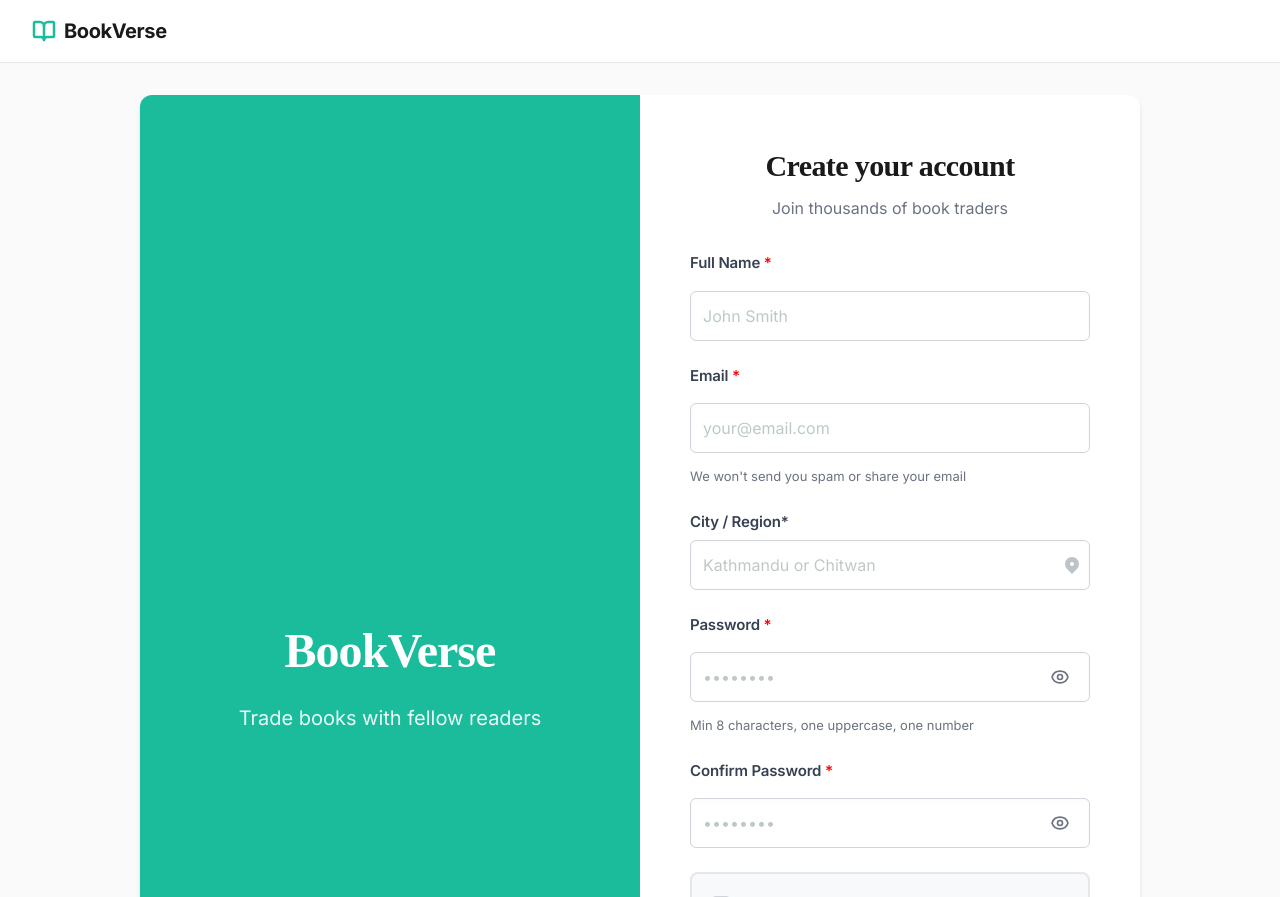
Scenario: SignUp Component › Validation › displays validation error for invalid email format
The image size is (1280, 897).
Type "invalid-email" into the field labelled "Email *" at (890, 428), box [690,403,1090,453]
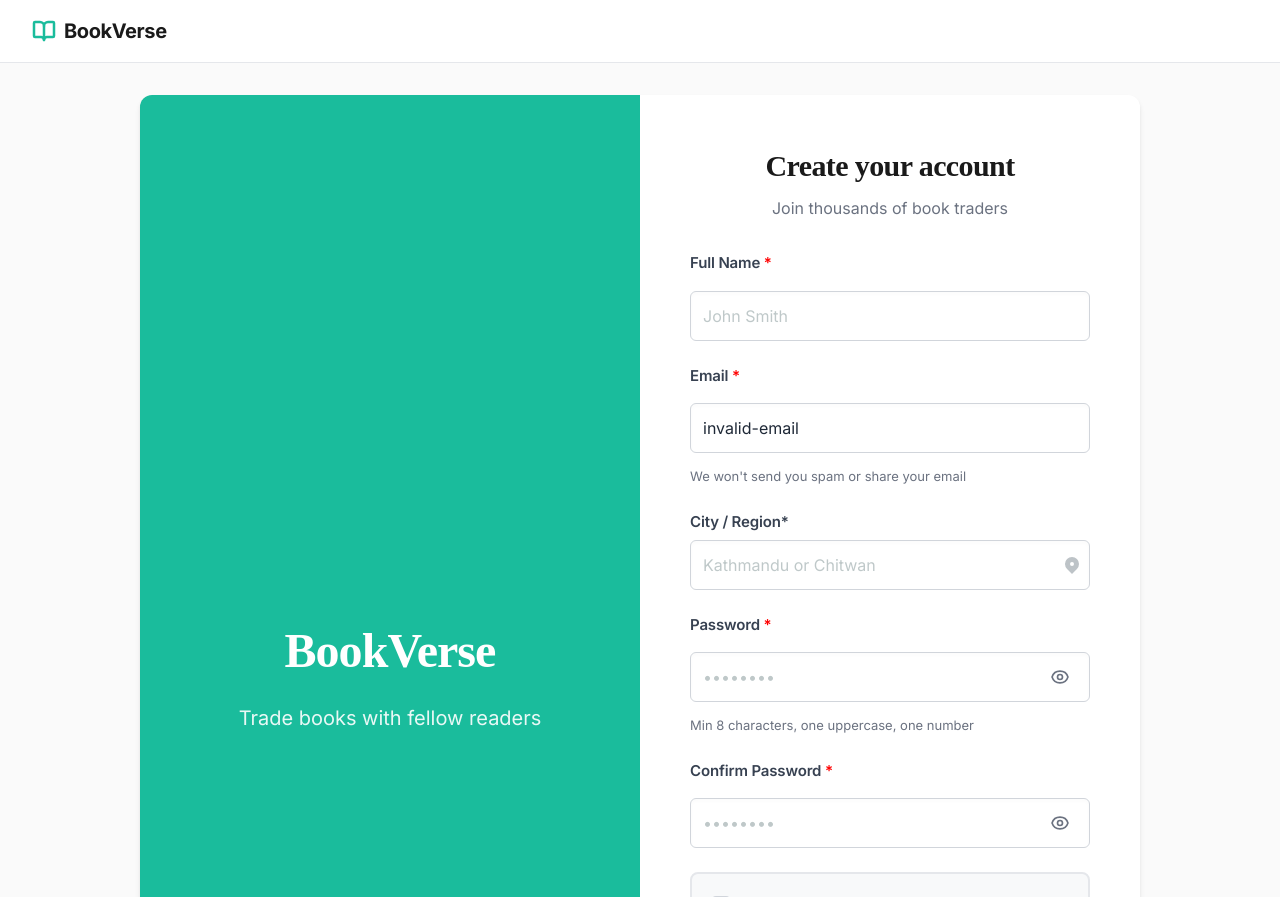
Leave the field labelled "Email *", box [690,403,1090,453]
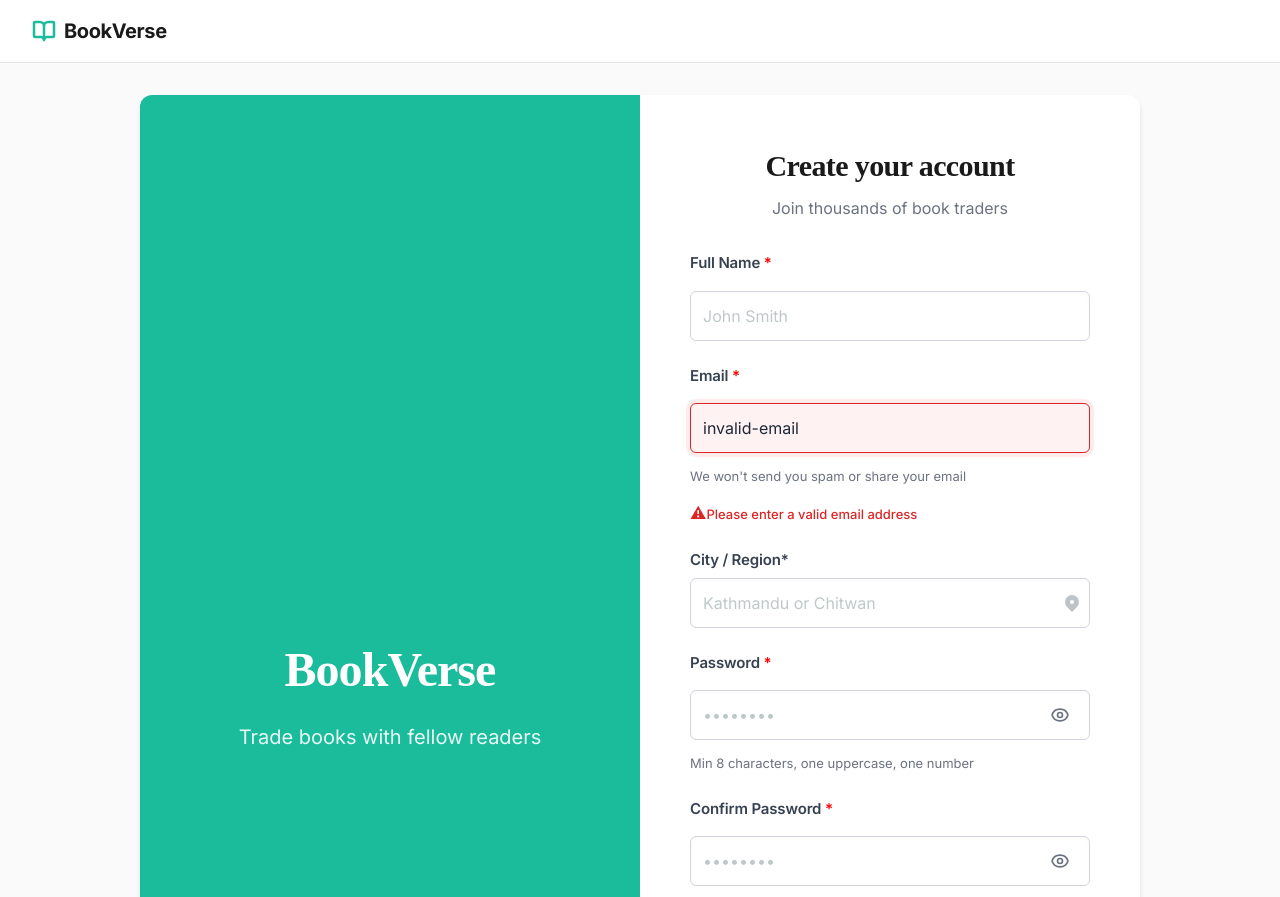
Expected: the text "Please enter a valid email address" is shown, [706,506,917,522]
